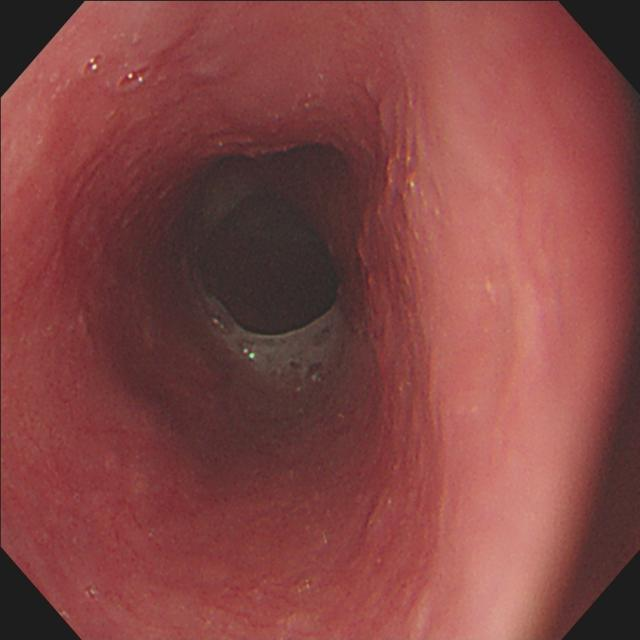E: (174, 143, 361, 335)
T: (232, 326, 340, 386), (121, 63, 158, 91), (83, 52, 110, 81)
